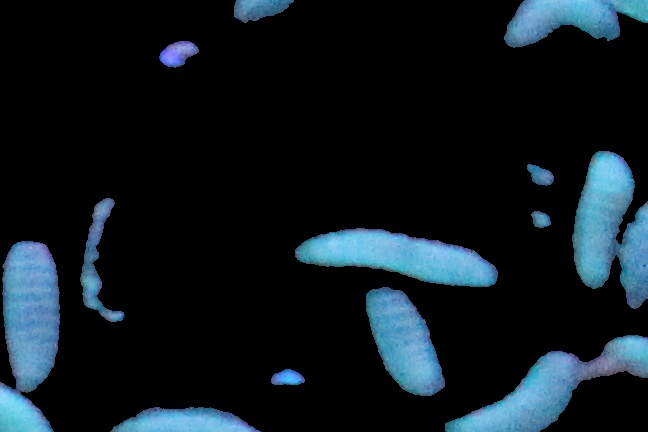larvae: (292, 226, 496, 289), (444, 351, 577, 432), (571, 150, 636, 293), (1, 238, 60, 390), (363, 289, 445, 397), (105, 394, 262, 432), (501, 1, 628, 45)
